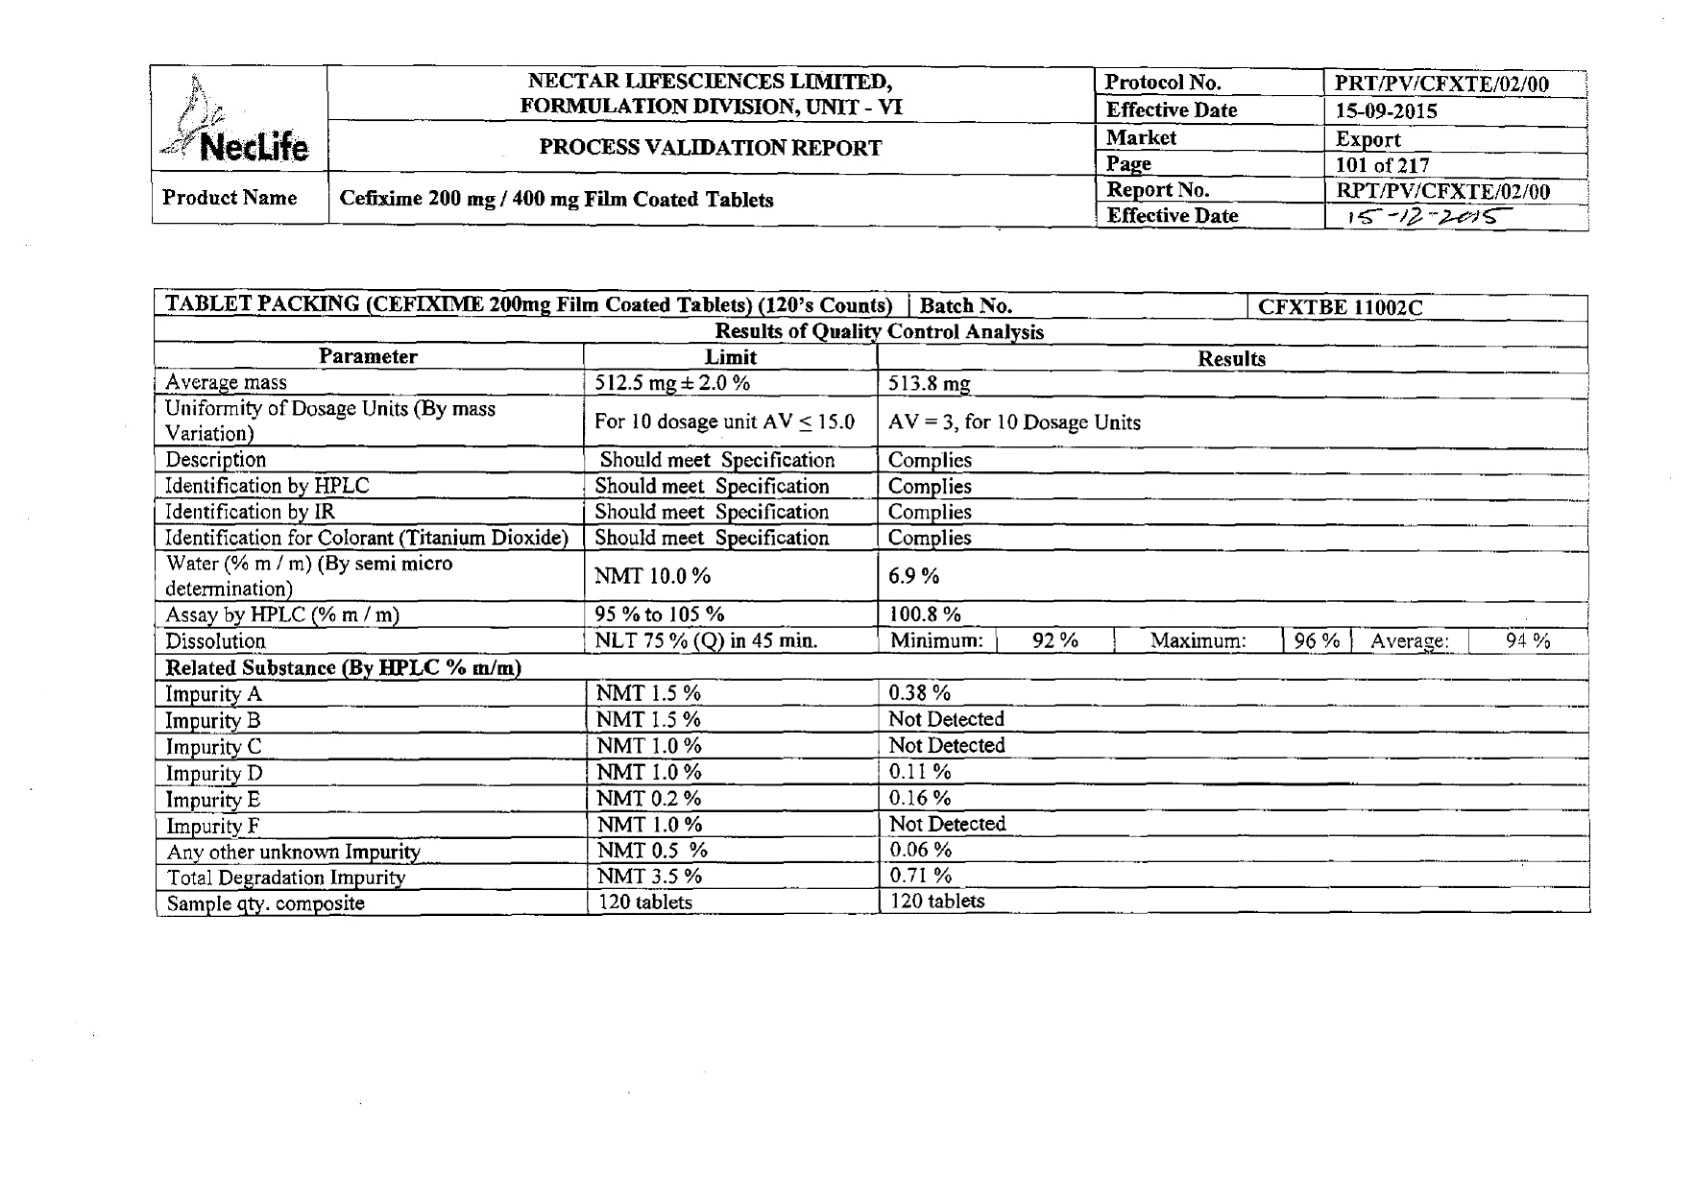merged_cells: (152, 287, 1592, 919), (149, 63, 1589, 233)
